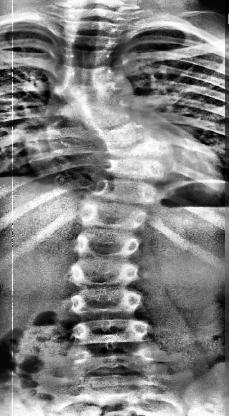Vertebrae: (60, 346, 158, 372), (66, 316, 154, 344), (80, 107, 178, 129), (68, 258, 144, 286), (101, 130, 181, 154), (69, 288, 144, 312), (72, 231, 146, 255), (96, 174, 162, 200), (79, 204, 147, 228), (55, 63, 127, 85), (56, 88, 132, 108), (52, 44, 122, 62), (53, 30, 126, 46), (102, 156, 168, 173), (64, 5, 134, 19), (60, 19, 130, 33)
